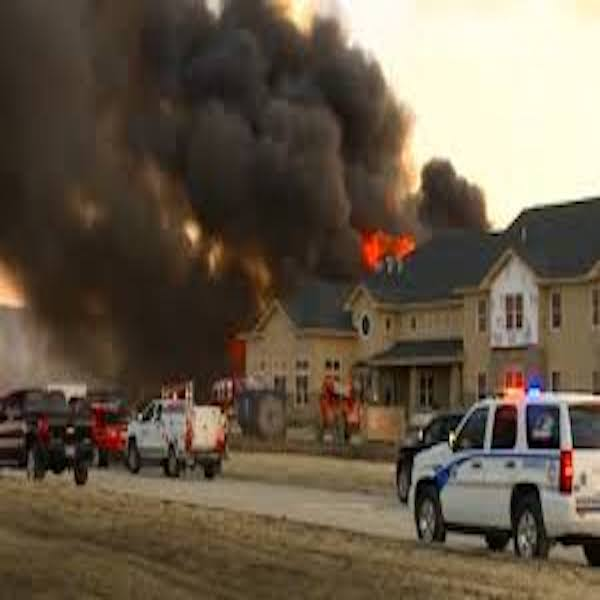fire: (351, 220, 418, 274)
